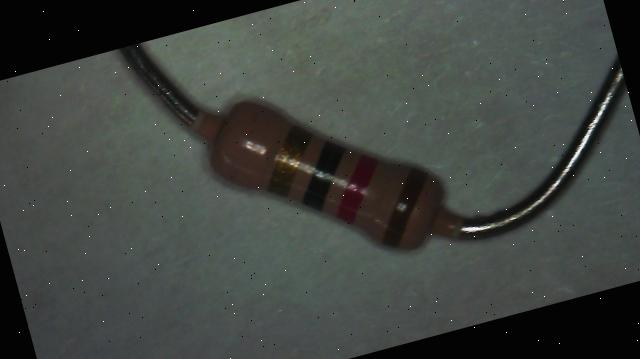black: (301, 150, 345, 198)
brown: (381, 174, 434, 240)
gold: (251, 126, 322, 198)
red: (332, 152, 388, 218)
resistor: (183, 74, 473, 283)
